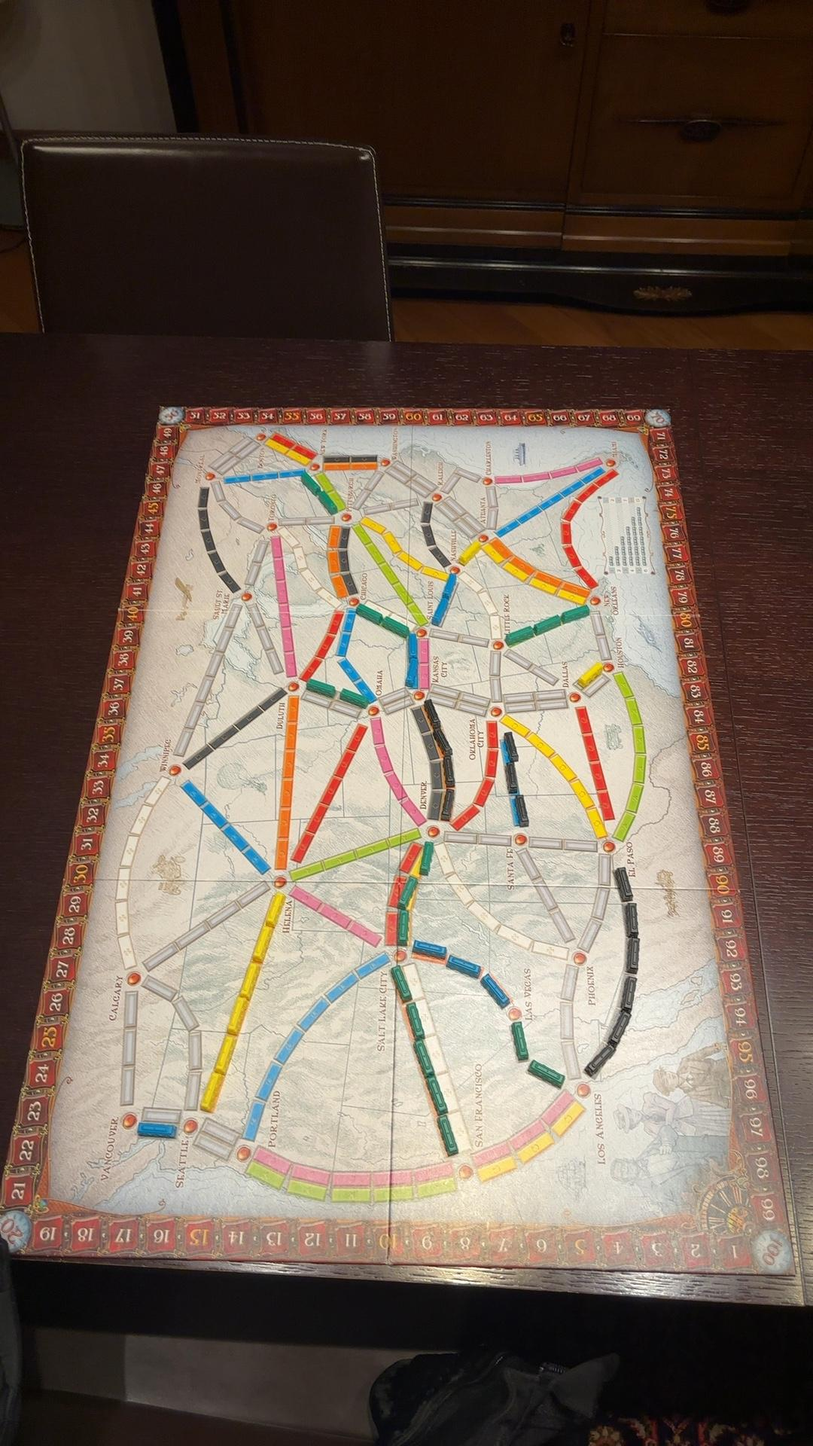black_train: (584, 1045, 614, 1075), (608, 1012, 630, 1047), (614, 867, 632, 901), (511, 795, 528, 827), (620, 975, 635, 1010), (439, 788, 454, 821), (626, 936, 639, 974), (623, 902, 637, 937), (425, 698, 440, 729), (503, 731, 518, 762), (505, 762, 519, 794)
blue_train: (480, 973, 508, 1006), (446, 955, 481, 978), (137, 1121, 176, 1138), (413, 940, 447, 959)
green_train: (528, 1060, 565, 1087), (427, 1074, 447, 1114), (437, 1115, 457, 1154), (391, 966, 412, 1001), (415, 1042, 434, 1077), (406, 1003, 424, 1039), (511, 1022, 528, 1060), (534, 615, 563, 635), (338, 689, 367, 708), (382, 616, 409, 636), (306, 680, 336, 698), (400, 876, 416, 907), (506, 627, 533, 645), (358, 604, 382, 624), (420, 843, 434, 876), (562, 605, 589, 622), (397, 906, 409, 944)
yellow_train: (577, 662, 602, 688), (459, 542, 480, 566)
